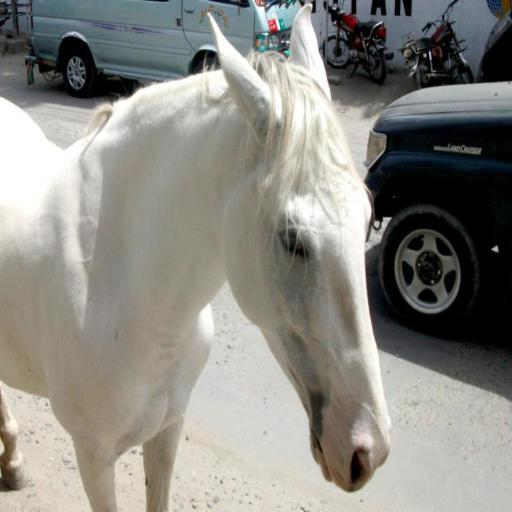horse: (0, 2, 394, 512)
